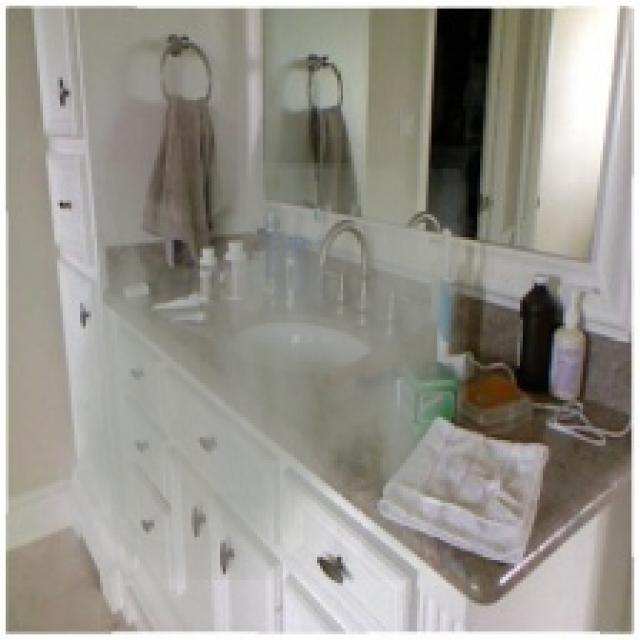smoke: (60, 163, 469, 580)
